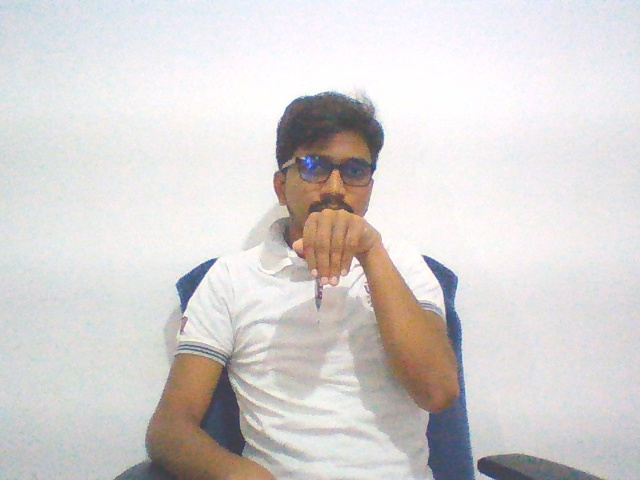Squirrel: (287, 204, 383, 289)
